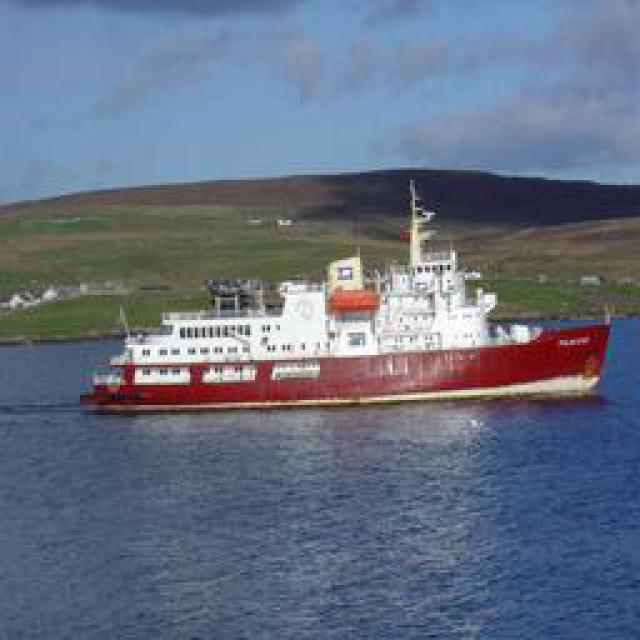Ship: (85, 214, 608, 414)
